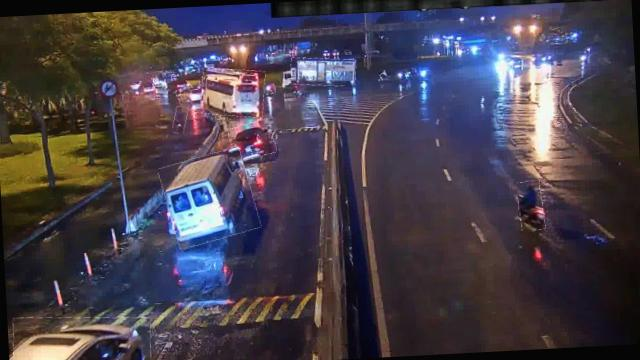Bike: (516, 180, 544, 230), (172, 105, 187, 134)
Bus: (160, 150, 258, 246), (200, 66, 266, 118)
Car: (10, 311, 152, 360), (228, 121, 276, 160)
Truck: (290, 55, 356, 88)
